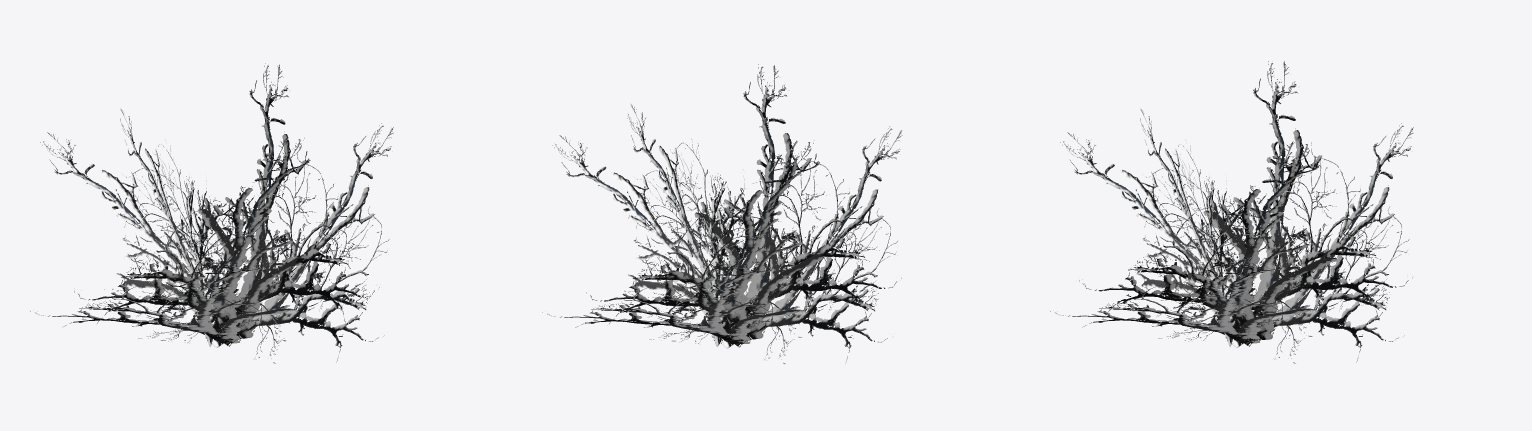
The model's file is Bush_3.fbx.
The picture shows the model from 3 angles, left to right: view 1: azimuth 30°, elevation 25°; view 2: azimuth 150°, elevation 25°; view 3: azimuth 270°, elevation 25°; orthographic projection.
Parts seen in each view (by area): view 1: Plane; view 2: Plane; view 3: Plane.
Boxes of the visible parts, x1=… form: Plane: x1=30, y1=63, x2=393, y2=363; Plane: x1=542, y1=64, x2=902, y2=364; Plane: x1=1050, y1=61, x2=1413, y2=363.
Bounding box in the file's own units: 254 × 146 × 259.
1 material, 1 textured.
